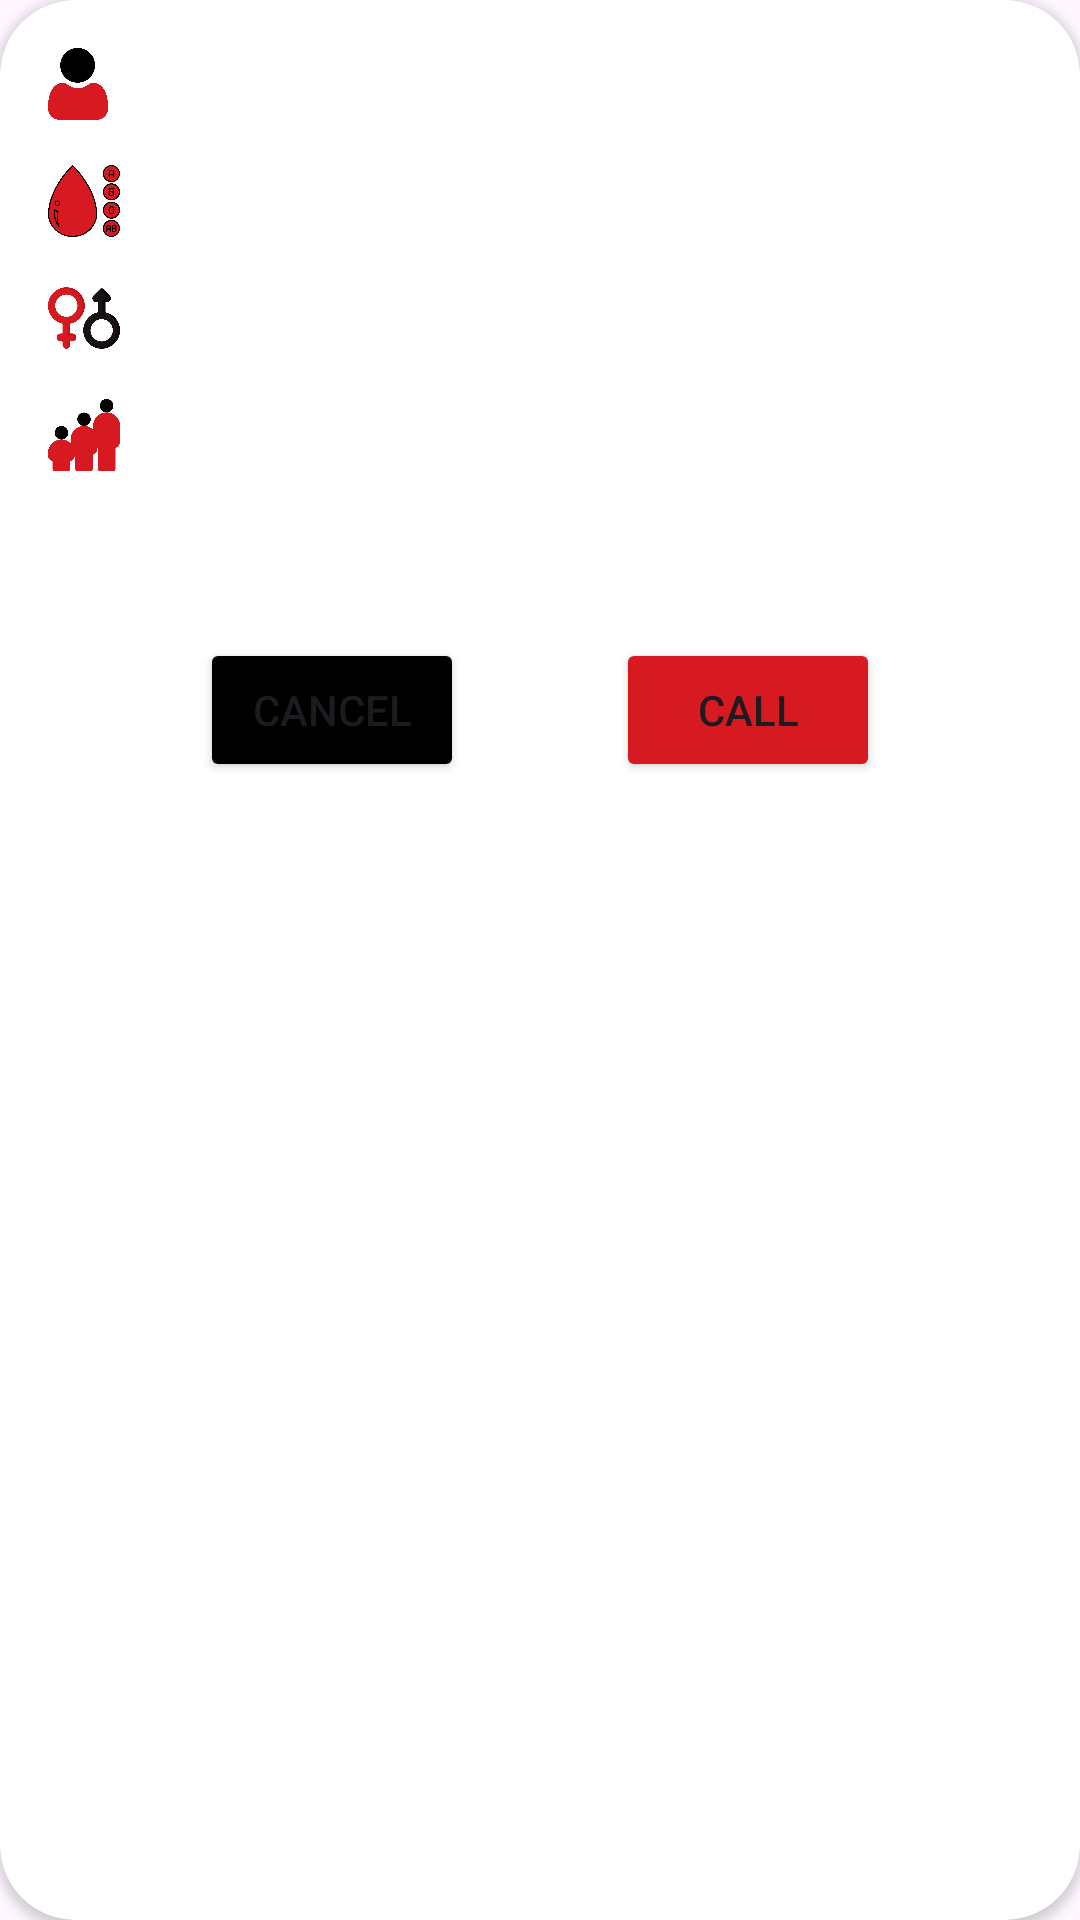

Icons on this 1080*1920 Android screen, each with its box as (x1=x1, y1=y1, x2=x2, y2=y2):
age: (x1=48, y1=399, x2=120, y2=471)
blood group: (x1=48, y1=165, x2=120, y2=237)
donar name: (x1=48, y1=48, x2=108, y2=120)
gender: (x1=48, y1=287, x2=120, y2=349)
